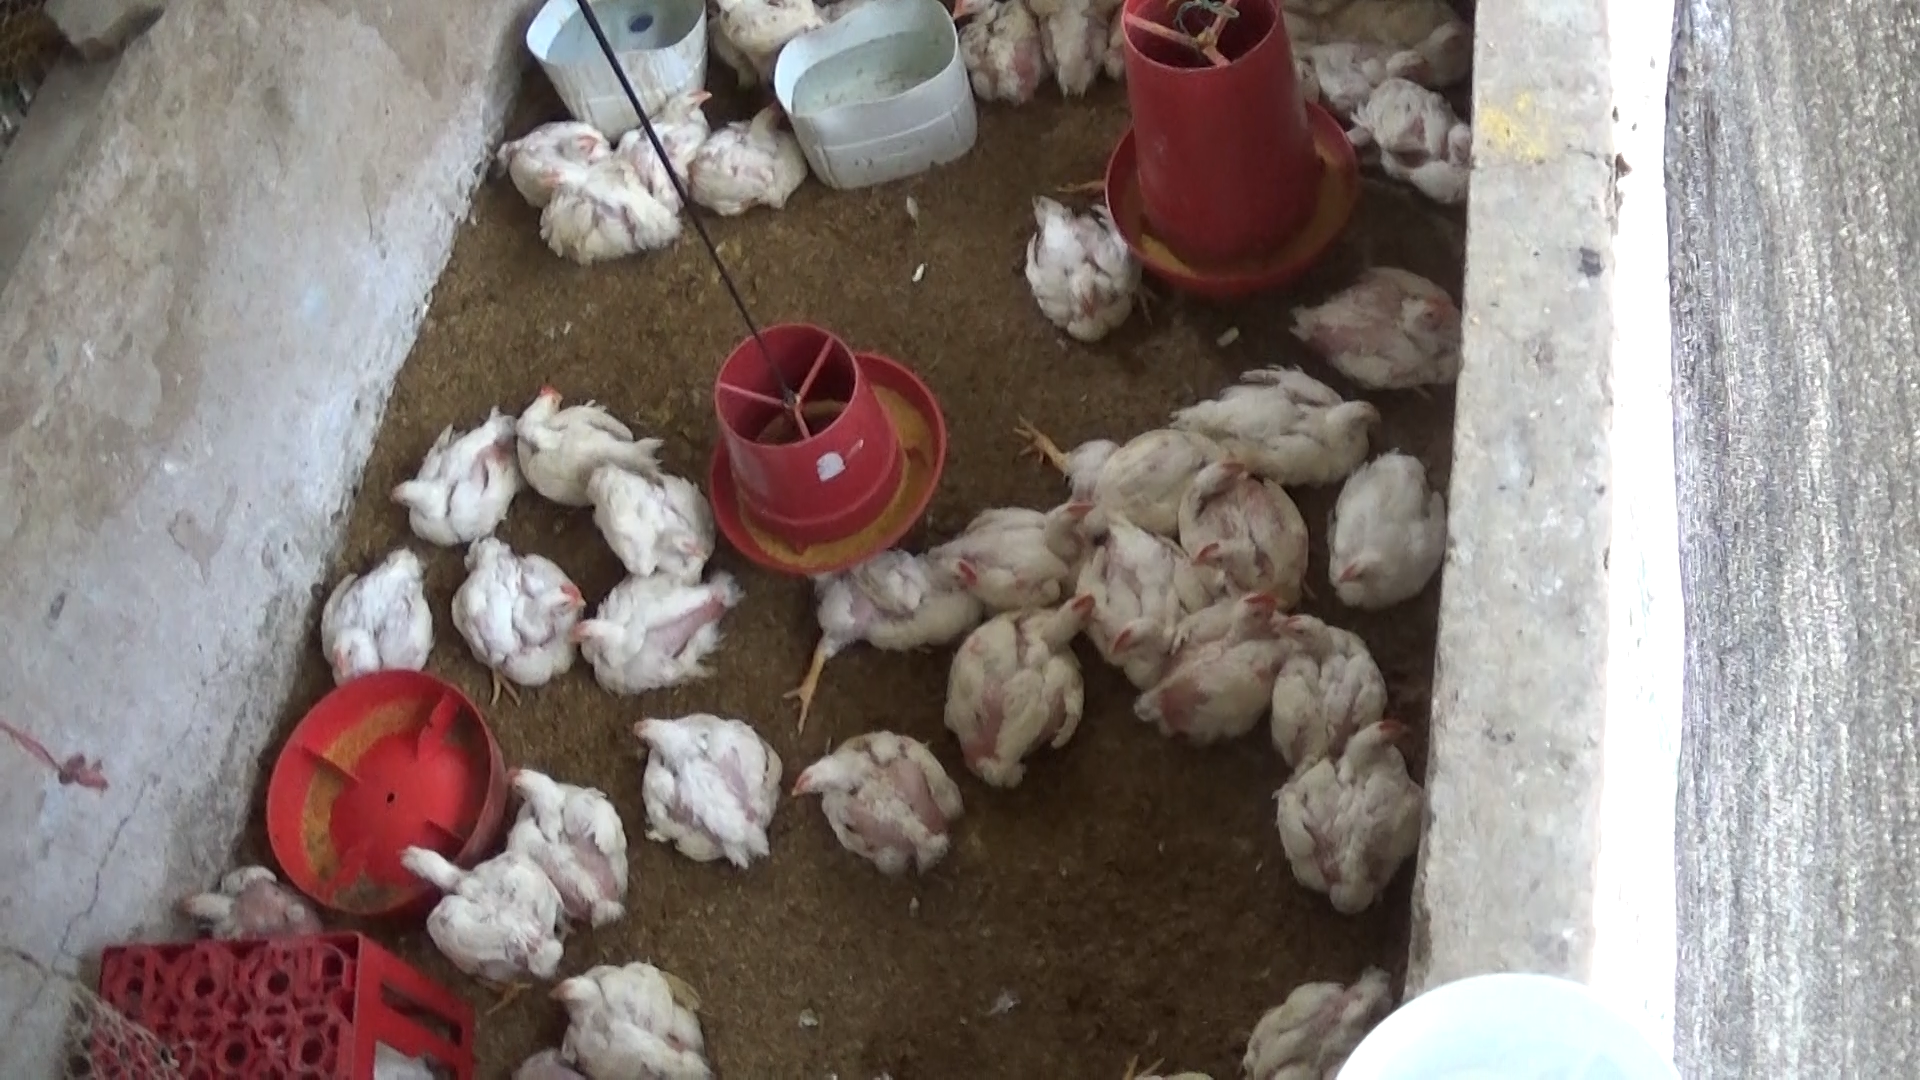Pollos: (781, 545, 986, 721), (1265, 702, 1427, 914), (382, 828, 574, 977), (787, 731, 971, 880), (622, 704, 782, 869), (564, 435, 723, 600), (1004, 189, 1162, 347), (1021, 407, 1262, 510), (1175, 363, 1379, 480), (444, 537, 591, 699), (960, 613, 1091, 791), (501, 757, 633, 928), (1135, 600, 1290, 742), (539, 957, 720, 1079), (564, 576, 760, 688), (506, 377, 667, 508), (1271, 593, 1393, 766), (371, 404, 514, 545), (928, 480, 1096, 600), (1290, 265, 1460, 382), (303, 541, 438, 686), (1323, 444, 1440, 611), (1080, 510, 1185, 680), (1191, 471, 1311, 618), (934, 589, 1102, 688), (1234, 967, 1389, 1073), (530, 160, 676, 260), (1366, 74, 1478, 198), (703, 99, 804, 208), (953, 0, 1059, 102), (625, 84, 723, 189), (485, 108, 616, 185)
